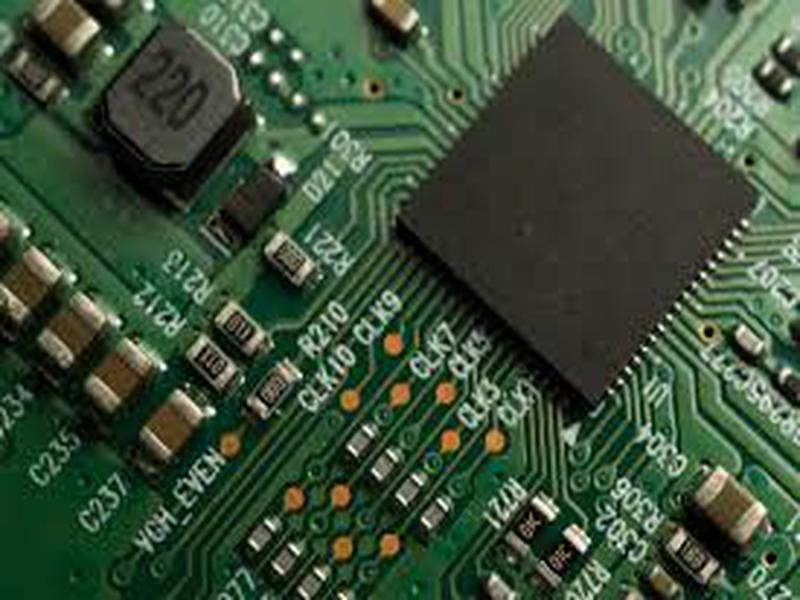SMD capacitor: (692, 465, 771, 544), (87, 333, 150, 414), (37, 292, 102, 366), (140, 385, 205, 458), (3, 242, 56, 324)
SMD resistor: (263, 232, 321, 294), (192, 334, 240, 400), (543, 524, 589, 591), (216, 302, 265, 361), (510, 497, 558, 556), (252, 358, 296, 420)
inductor_chunk: (99, 30, 250, 190)
